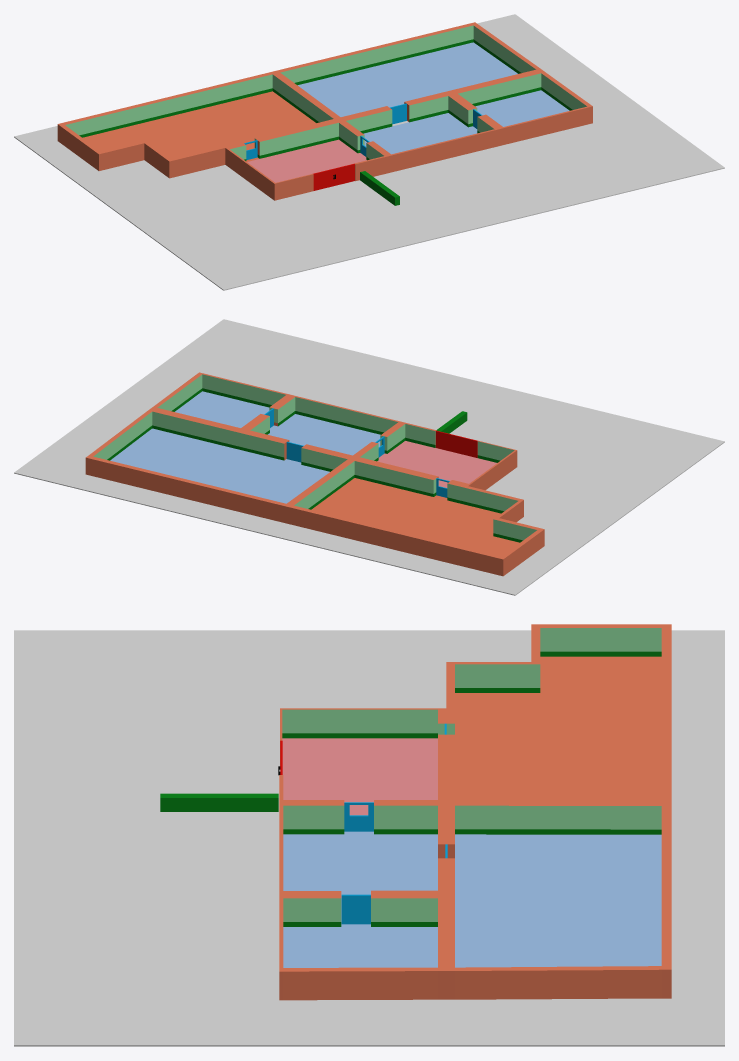
File: dr._ROOM_5 (1).fbx
3 renders of one model, top to bottom at view 1: azimuth 30°, elevation 25°; view 2: azimuth 150°, elevation 25°; view 3: azimuth 270°, elevation 25°, orthographic. The views are drawn at different scales.
Visible parts, largest first — view 1: ground, Room_5, Floor_4, Floor_5, Room_4, Room_1, Room_2, Room_3, Floor_1, Floor_2, Floor_3, grass_wall; view 2: ground, Room_5, Room_4, Floor_4, Floor_5, Room_2, Room_1, Room_3, Floor_1, Floor_2, Floor_3; view 3: ground, Floor_4, Floor_5, Room_4, Room_5, Room_3, Floor_1, Floor_2, Floor_3, Room_1, Room_2, grass_wall (+2 smaller).
Part boxes in pixels (x1,y1,x2,y2): ground: (14,14,724,290); Room_5: (57,71,339,178); Floor_4: (298,42,517,116); Floor_5: (82,91,315,161); Room_4: (274,22,542,119); Room_1: (225,120,388,200); Room_2: (340,93,500,172); Room_3: (451,70,592,145); Floor_1: (247,139,366,182); Floor_2: (363,113,477,154); Floor_3: (475,90,569,126); grass_wall: (360,171,399,205); ground: (14,319,724,595); Room_5: (287,458,544,576); Room_4: (85,408,353,523); Floor_4: (110,428,329,503); Floor_5: (311,478,519,556); Room_2: (243,395,402,458); Room_1: (354,422,517,490); Room_3: (151,372,291,430); Floor_1: (377,441,496,487); Floor_2: (268,414,380,455); Floor_3: (175,391,269,427); ground: (14,630,724,1046); Floor_4: (455,834,661,967); Floor_5: (455,656,661,799); Room_4: (446,803,671,999); Room_5: (446,624,671,803); Room_3: (279,894,446,1000); Floor_1: (282,738,437,815); Floor_2: (283,831,437,924); Floor_3: (283,925,437,967); Room_1: (279,708,446,802); Room_2: (279,803,446,894); grass_wall: (160,793,278,811).
Bounding box in the file's own units: 8098 × 278 × 5867.
